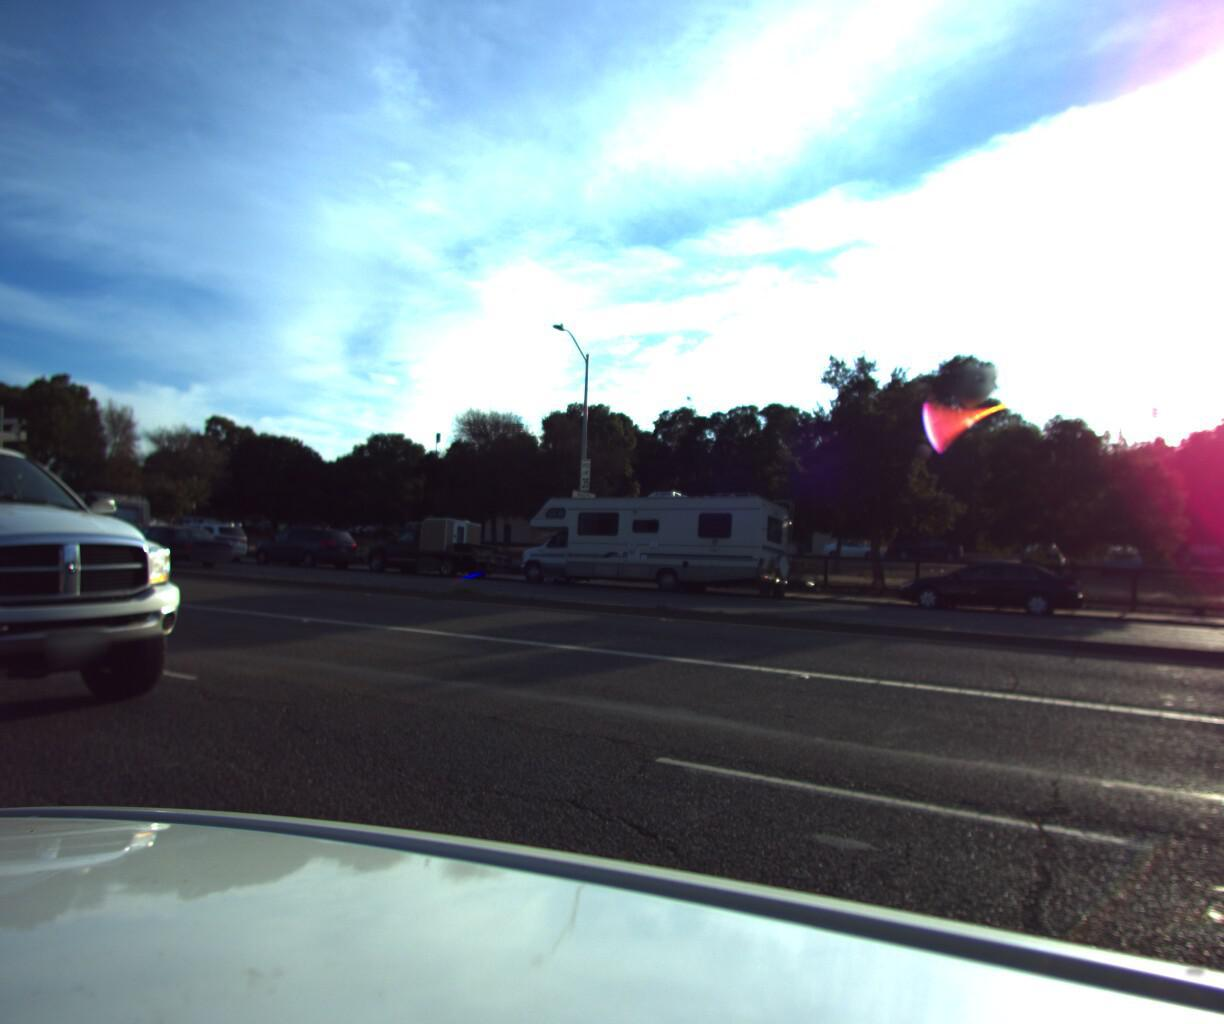car: (0, 348, 240, 786), (891, 548, 1080, 618), (357, 508, 515, 578), (94, 517, 233, 565), (244, 517, 361, 566), (150, 518, 251, 561)
other_vehicle: (510, 480, 803, 601), (7, 486, 164, 563)
